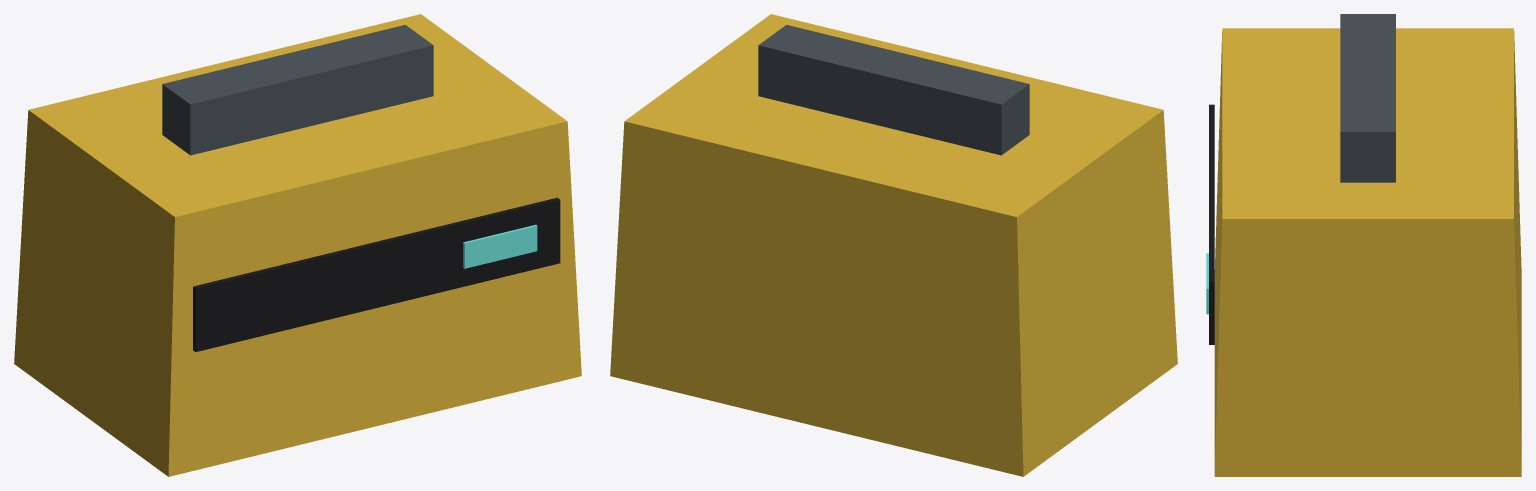
File: SH_BlackBox_01.glb
The picture shows the model from 3 angles, left to right: view 1: azimuth 30°, elevation 25°; view 2: azimuth 150°, elevation 25°; view 3: azimuth 270°, elevation 25°; orthographic projection.
Visible parts, largest first — view 1: SH_BlackBox_01; view 2: SH_BlackBox_01; view 3: SH_BlackBox_01.
Boxes of the visible parts, box(x1,y1,x2,y2) form: SH_BlackBox_01: box(14, 14, 581, 476); SH_BlackBox_01: box(610, 14, 1177, 476); SH_BlackBox_01: box(1206, 14, 1521, 476).
Bounding box in the file's own units: 0.34 × 0.24 × 0.226.
Materials: 1 (1 with a texture image).
